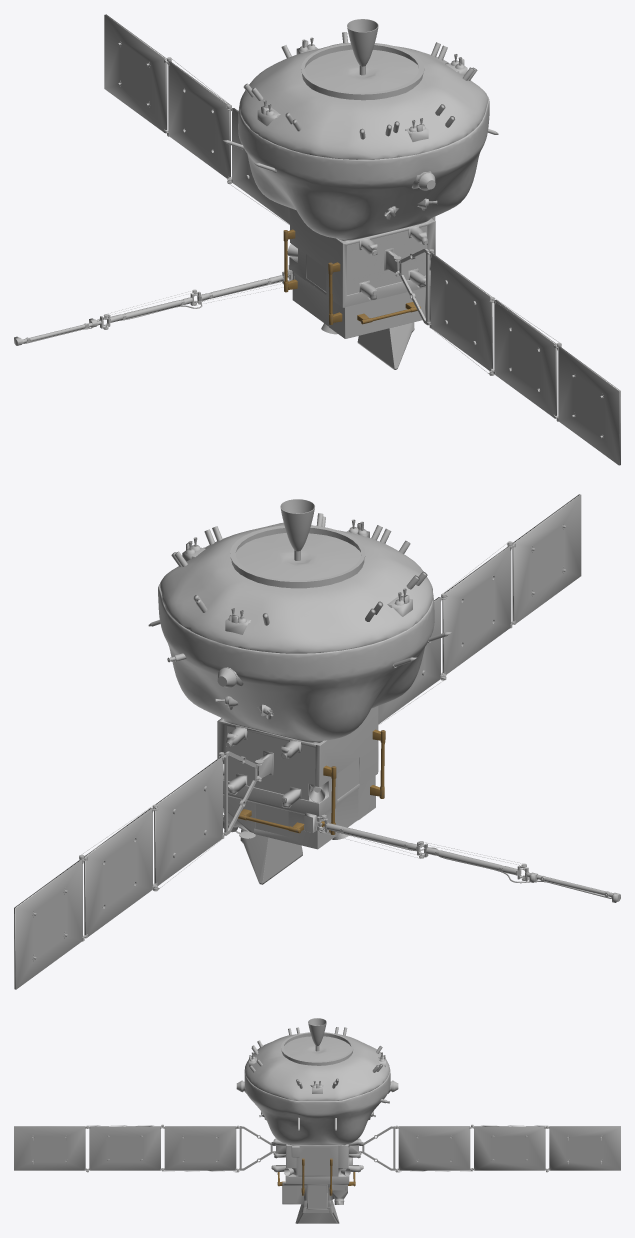
Rendered from SMILE mit Griffen.fbx.
The picture shows the model from 3 angles, top to bottom: view 1: azimuth 30°, elevation 25°; view 2: azimuth 150°, elevation 25°; view 3: azimuth 270°, elevation 25°; orthographic projection. The views are drawn at different scales.
Visible parts, largest first — view 1: SMILE_LOW_substance_01_SMILE_LP_MLI, SMILE_LOW_substance_01_SMILE_LP_SA_PANELS, SMILE_LOW_substance_01_SMILE_LP_MAIN_; view 2: SMILE_LOW_substance_01_SMILE_LP_MLI, SMILE_LOW_substance_01_SMILE_LP_SA_PANELS, SMILE_LOW_substance_01_SMILE_LP_MAIN_; view 3: SMILE_LOW_substance_01_SMILE_LP_SA_PANELS, SMILE_LOW_substance_01_SMILE_LP_MLI, SMILE_LOW_substance_01_SMILE_LP_MAIN_.
Boxes of the visible parts, x1,y1,x2,y2 form: SMILE_LOW_substance_01_SMILE_LP_MLI: (14,32,489,369); SMILE_LOW_substance_01_SMILE_LP_SA_PANELS: (104,14,620,465); SMILE_LOW_substance_01_SMILE_LP_MAIN_: (23,19,603,439); SMILE_LOW_substance_01_SMILE_LP_MLI: (158,513,620,902); SMILE_LOW_substance_01_SMILE_LP_SA_PANELS: (14,494,581,989); SMILE_LOW_substance_01_SMILE_LP_MAIN_: (32,499,611,961); SMILE_LOW_substance_01_SMILE_LP_SA_PANELS: (14,1126,620,1170); SMILE_LOW_substance_01_SMILE_LP_MLI: (243,1027,391,1223); SMILE_LOW_substance_01_SMILE_LP_MAIN_: (31,1018,603,1212).
Size of the model in its own units: 485 by 352 by 982.
